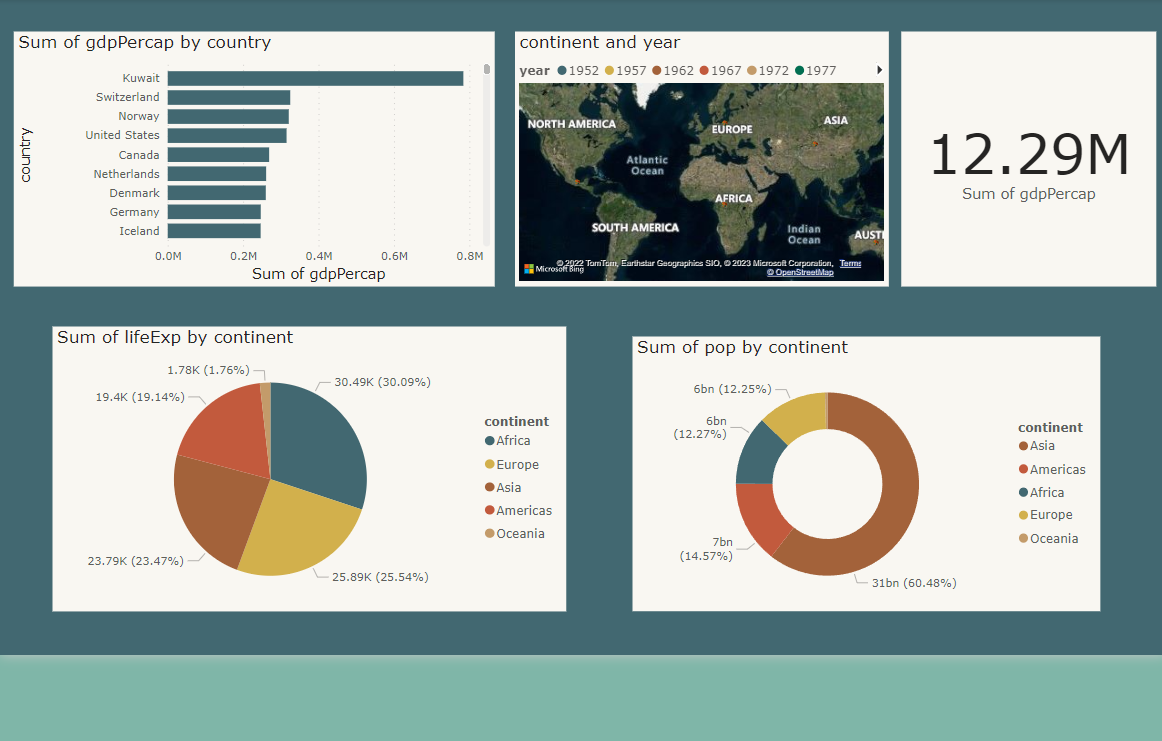

The dashboard page shown, as its layout file describes it:
{"tool":"powerbi","page":{"name":"Page 1","canvas":[1280,720],"ordinal":0},"visuals":[{"type":"card","fields":{"Values":["Sum(Sheet1.gdpPercap)"]},"box":[989.4,35.7,279.9,279.9],"z":0},{"type":"barChart","fields":{"Category":["Sheet1.country"],"Y":["Sum(Sheet1.gdpPercap)"]},"box":[15.1,35.7,528.3,279.9],"z":1000},{"type":"pieChart","fields":{"Category":["Sheet1.continent"],"Y":["Sum(Sheet1.lifeExp)"]},"box":[57.6,359.5,564,312.9],"z":2000},{"type":"donutChart","fields":{"Category":["Sheet1.continent"],"Y":["Sum(Sheet1.pop)"]},"box":[694.3,370.5,513.2,301.9],"z":3000},{"type":"map","fields":{"Category":["Sheet1.continent"],"Series":["Sheet1.year"]},"box":[565.4,35.7,410.3,279.9],"z":4000}]}

Visuals, with their boxes in screenshot pixels (x1, y1, x2, y2):
card - Sum(Sheet1.gdpPercap): {"x1": 895, "y1": 32, "x2": 1145, "y2": 283}
barChart - Sheet1.country x Sum(Sheet1.gdpPercap): {"x1": 23, "y1": 32, "x2": 496, "y2": 283}
pieChart - Sheet1.continent x Sum(Sheet1.lifeExp): {"x1": 61, "y1": 322, "x2": 566, "y2": 602}
donutChart - Sheet1.continent x Sum(Sheet1.pop): {"x1": 631, "y1": 332, "x2": 1090, "y2": 602}
map - Sheet1.continent x Sheet1.year: {"x1": 515, "y1": 32, "x2": 883, "y2": 283}
